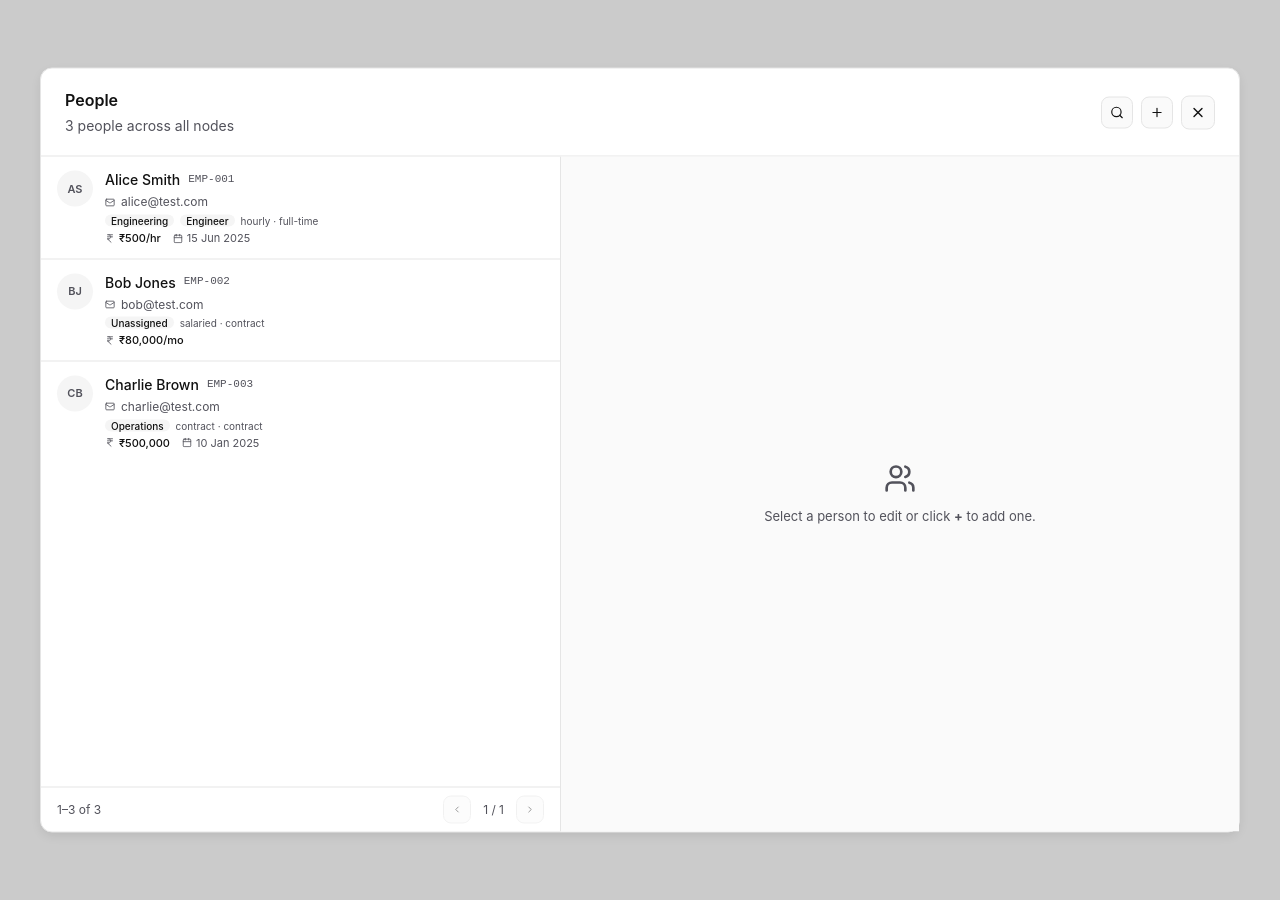
PeopleModal › validates email format on save
expect the element with test id "people-modal-list" is shown: met, box [41,157,561,832]
Click the button named "Add person" at (1157, 112), box [1141,96,1173,128]
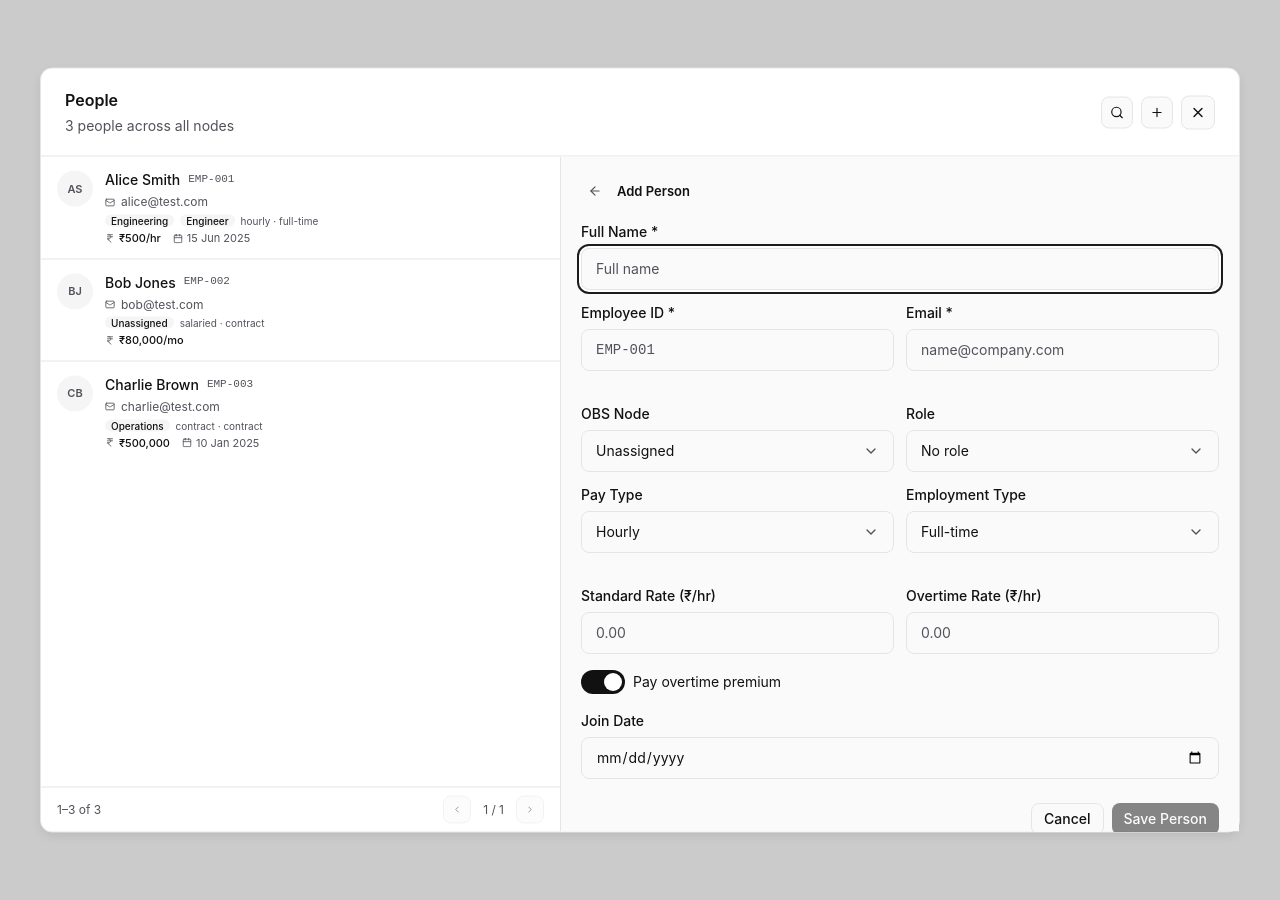
expect the heading "Add Person" is shown: met, box [617,181,690,201]
Note: Fill form with invalid email
Type "Test Person" into the field with placeholder "Full name" at (900, 269), box [581,248,1219,290]
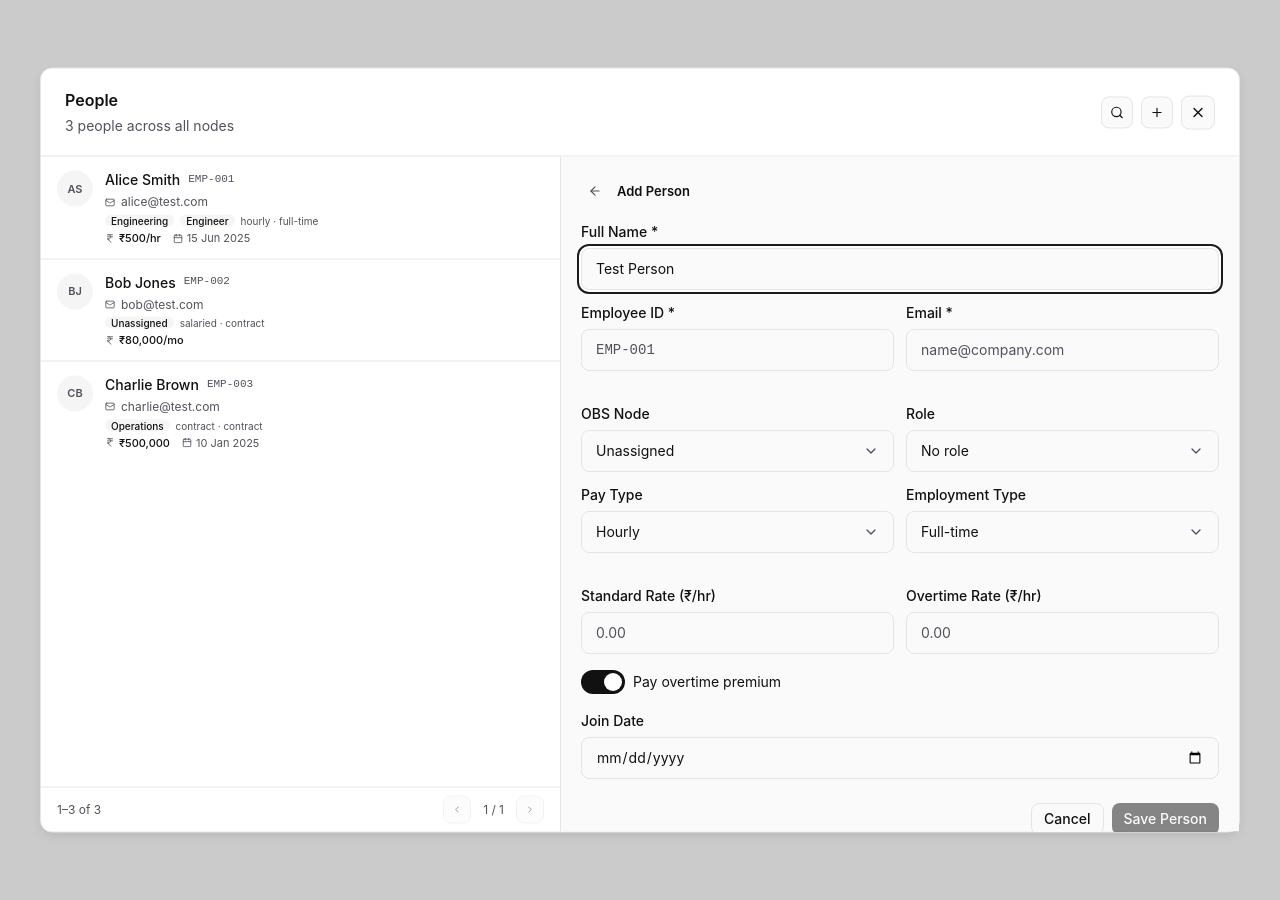
Type "EMP-999" into the field with placeholder "EMP-001" at (738, 350), box [581,329,894,371]
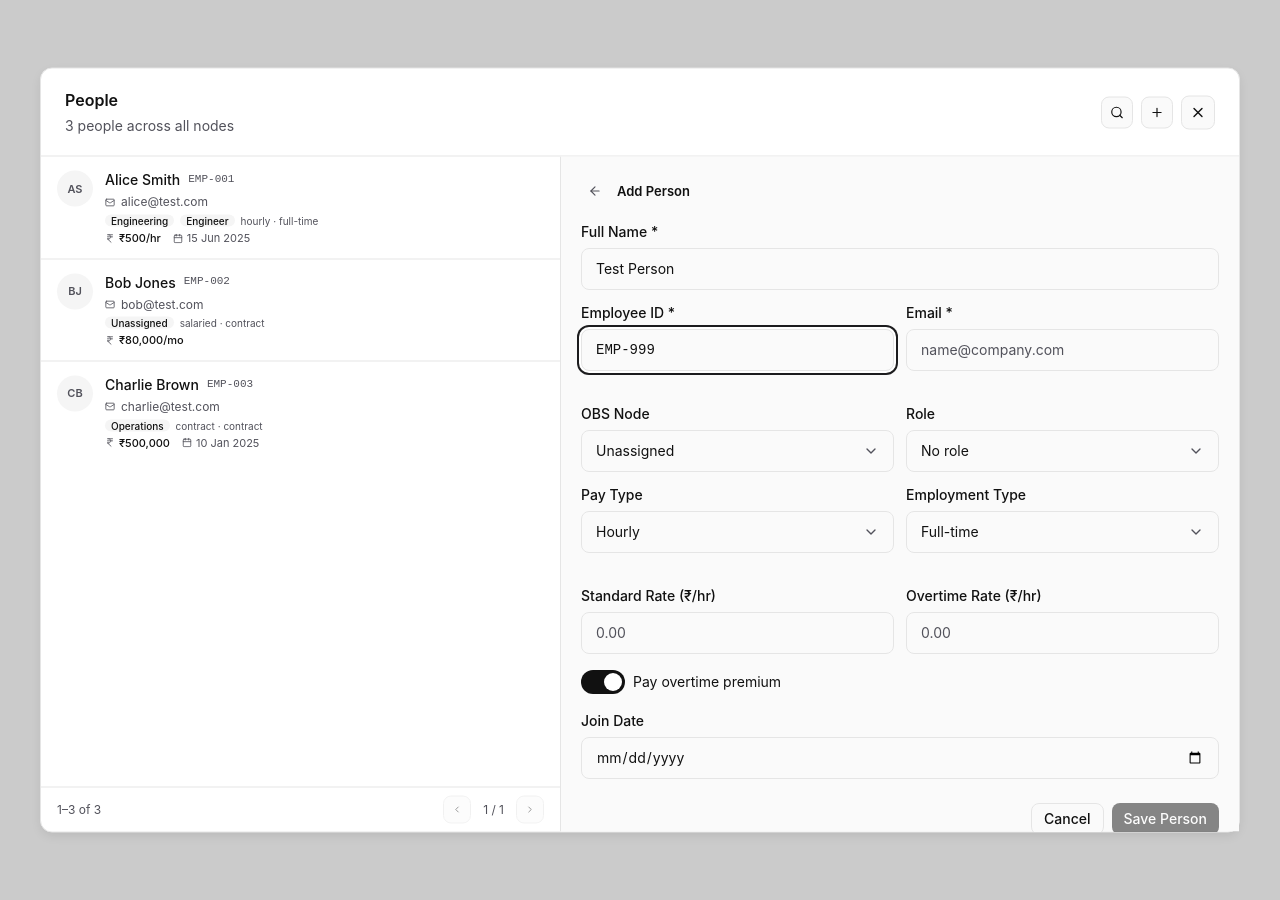
Type "not-an-email" into the field with placeholder "name@company.com" at (1062, 350), box [906,329,1219,371]
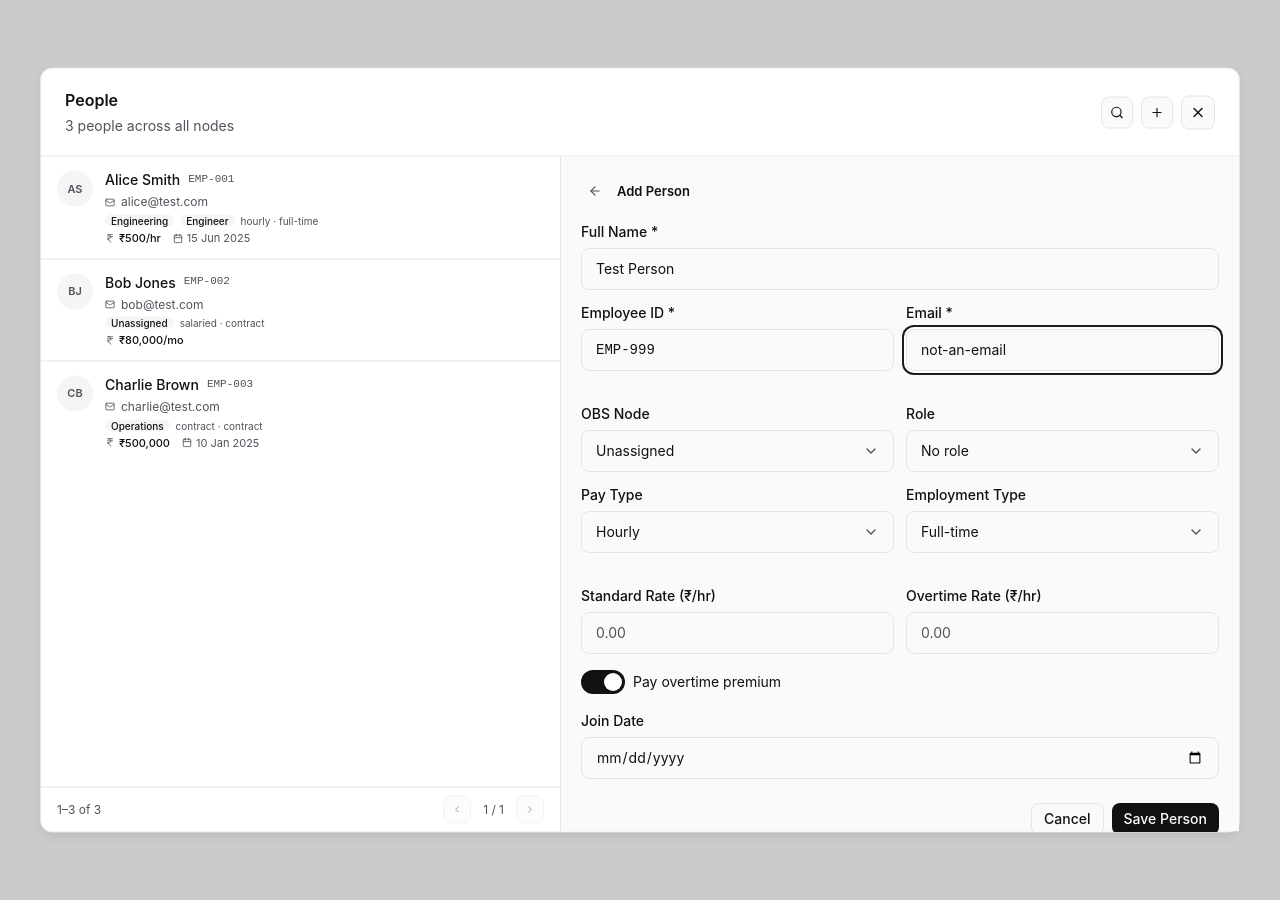
Click the button "Save Person" at (1165, 819), box [1112,803,1219,835]
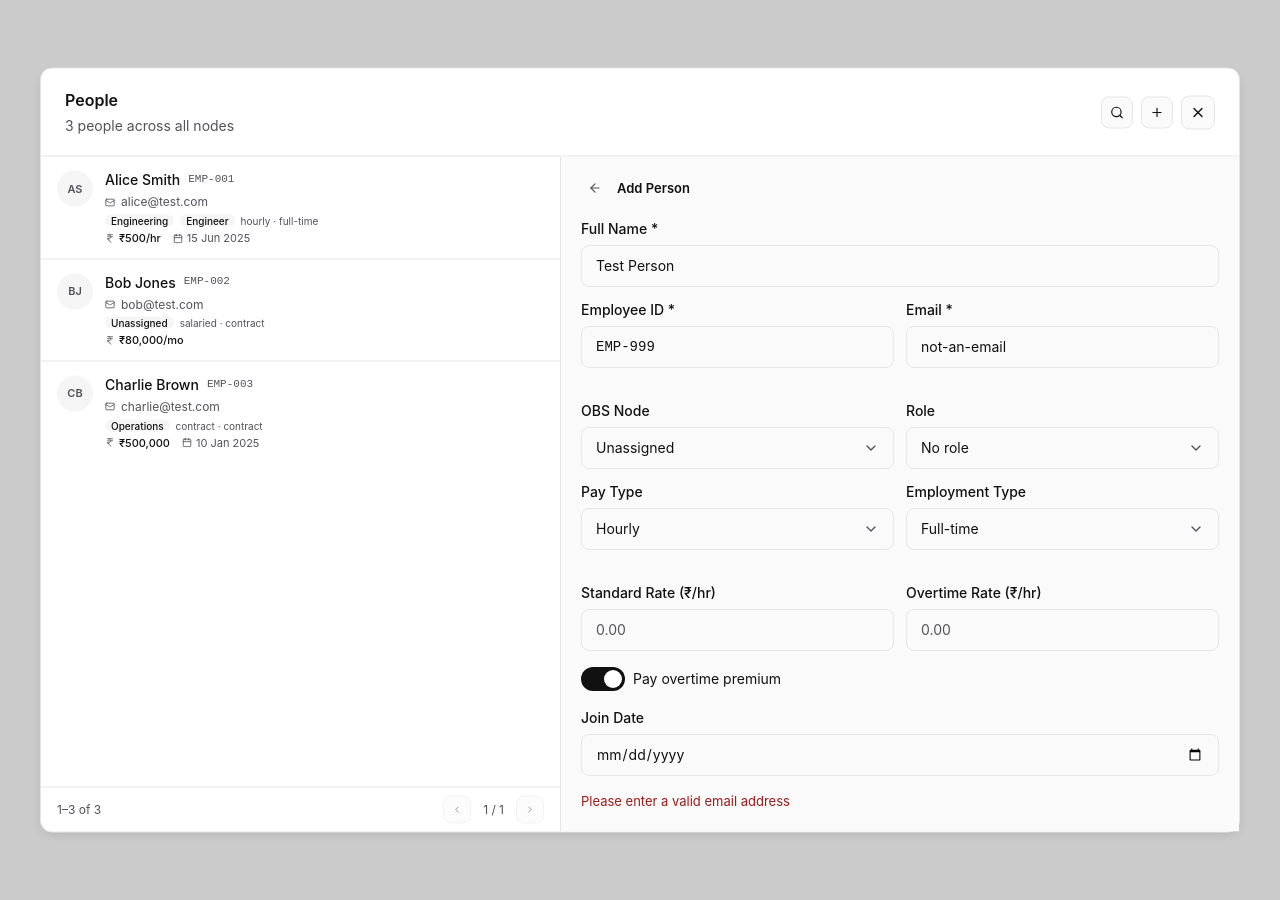
expect the text "Please enter a valid email address" is shown: met, box [581,793,790,809]
